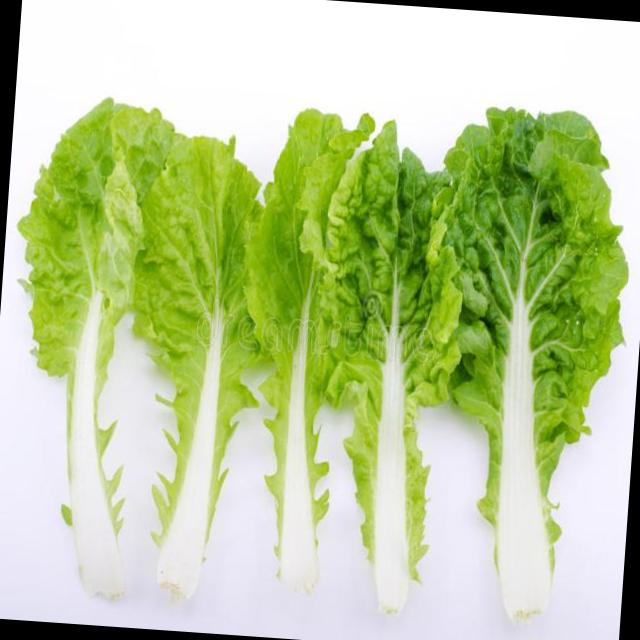Lettuce-Ready-to-Harvest: (445, 108, 627, 617), (18, 98, 173, 597), (326, 121, 461, 612), (247, 109, 374, 591), (133, 136, 259, 598)
